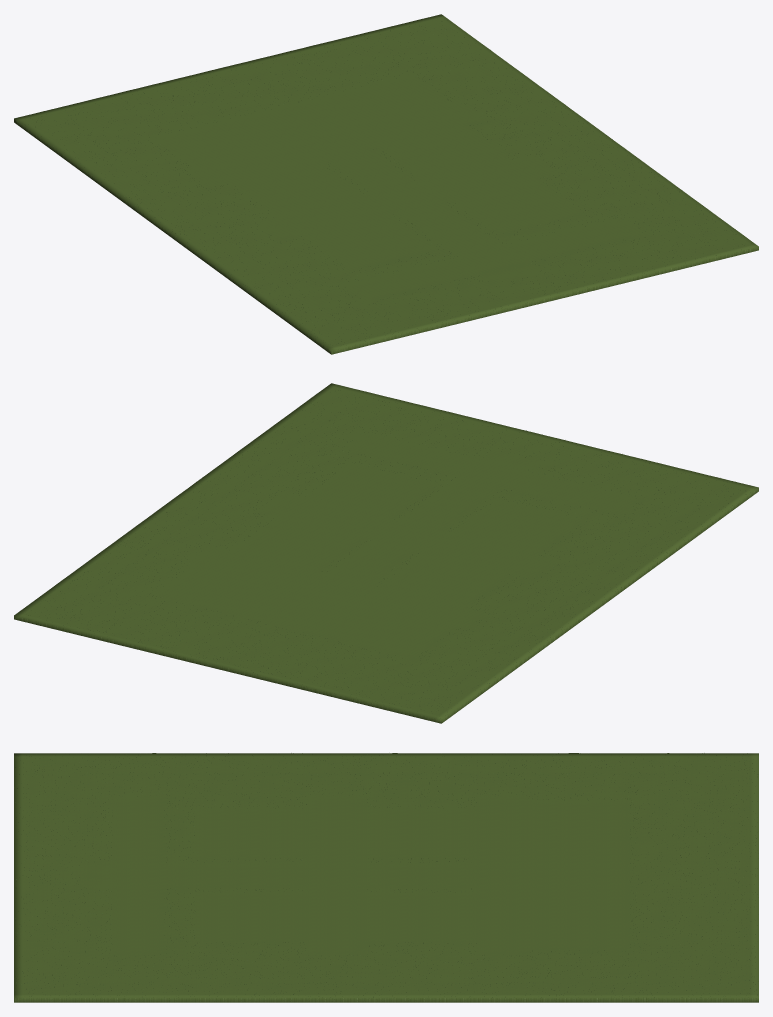
File: estateLawnReliefGate.glb
3 renders of one model, top to bottom at view 1: azimuth 30°, elevation 25°; view 2: azimuth 150°, elevation 25°; view 3: azimuth 270°, elevation 25°, orthographic. The views are drawn at different scales.
Visible parts, largest first — view 1: Sculpted continuous cut turf; view 2: Sculpted continuous cut turf; view 3: Sculpted continuous cut turf.
Boxes of the visible parts, x1,y1,x2,y2 form: Sculpted continuous cut turf: [14, 14, 758, 354]; Sculpted continuous cut turf: [14, 383, 758, 723]; Sculpted continuous cut turf: [14, 753, 758, 1002].
Size of the model in its own units: 70.02 by 0.7496 by 90.02.
Materials: 2 (1 with a texture image).
